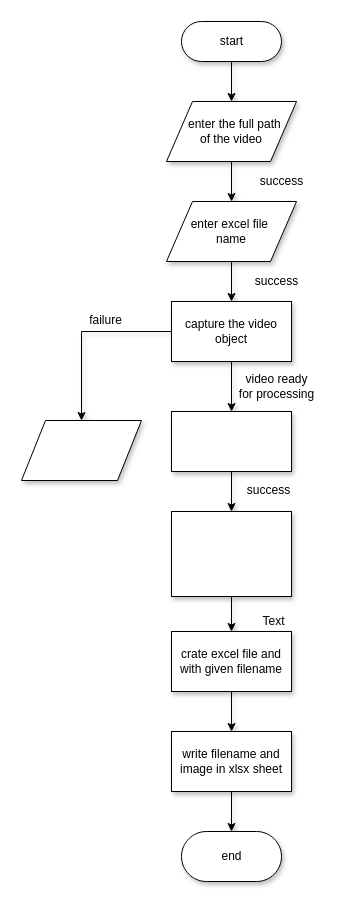
Some shapes in this 345 by 906 pixel diagram are drawn without their labels. The centre of each missing label's shape, as x and y in pixels:
capture frame by fame and detect person in frame: (x=232, y=442)
crop person from image and store file with timestamp in directory: (x=232, y=555)
print "Error opening file": (x=82, y=452)
